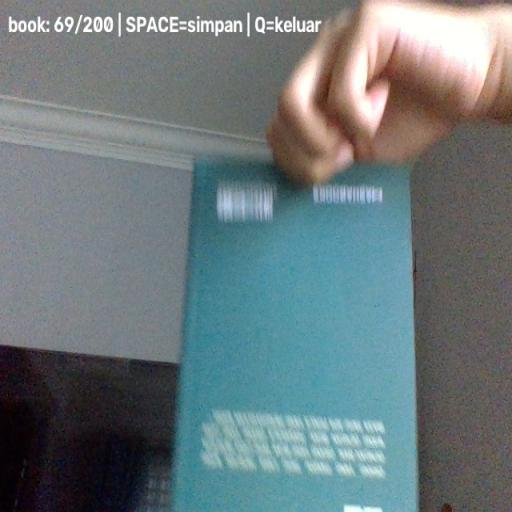Book: (171, 154, 419, 512)
